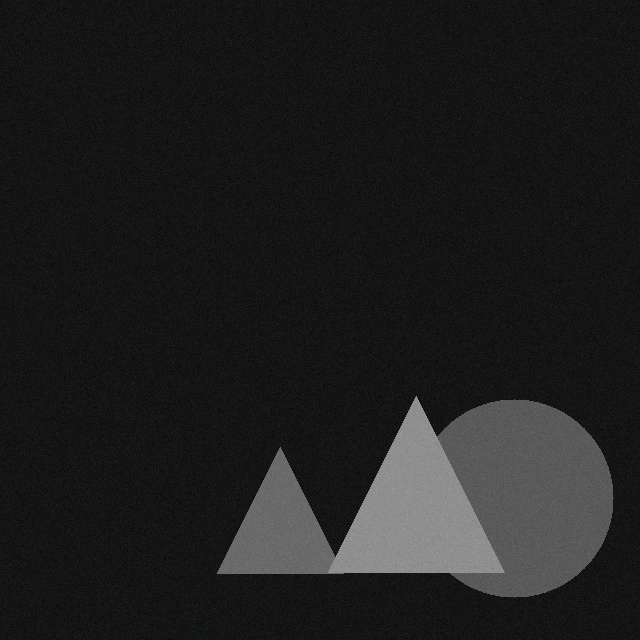circle: (421, 387, 619, 585)
triangle: (334, 384, 510, 560), (223, 435, 349, 561)
